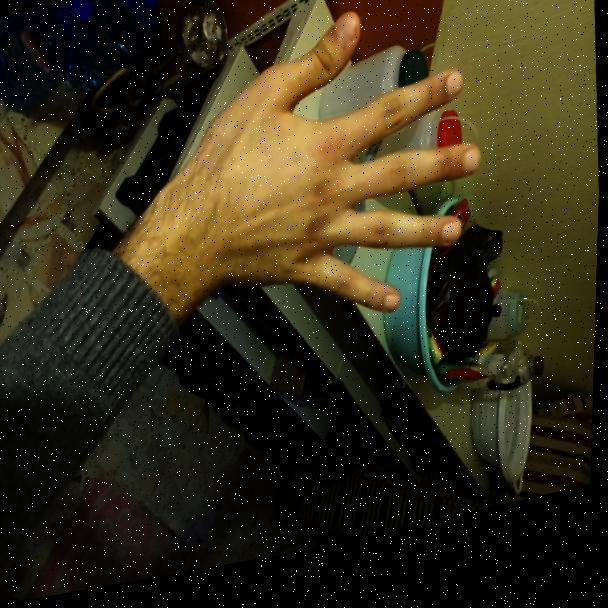five: (169, 1, 492, 375)
